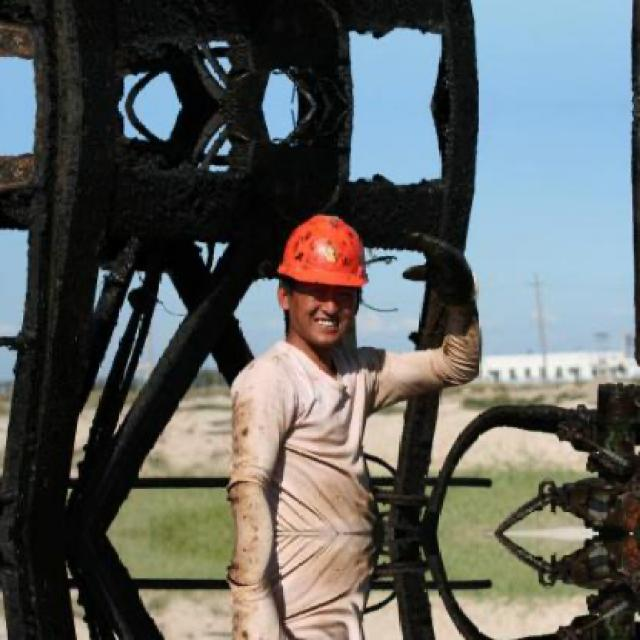helmet: (269, 201, 380, 353)
